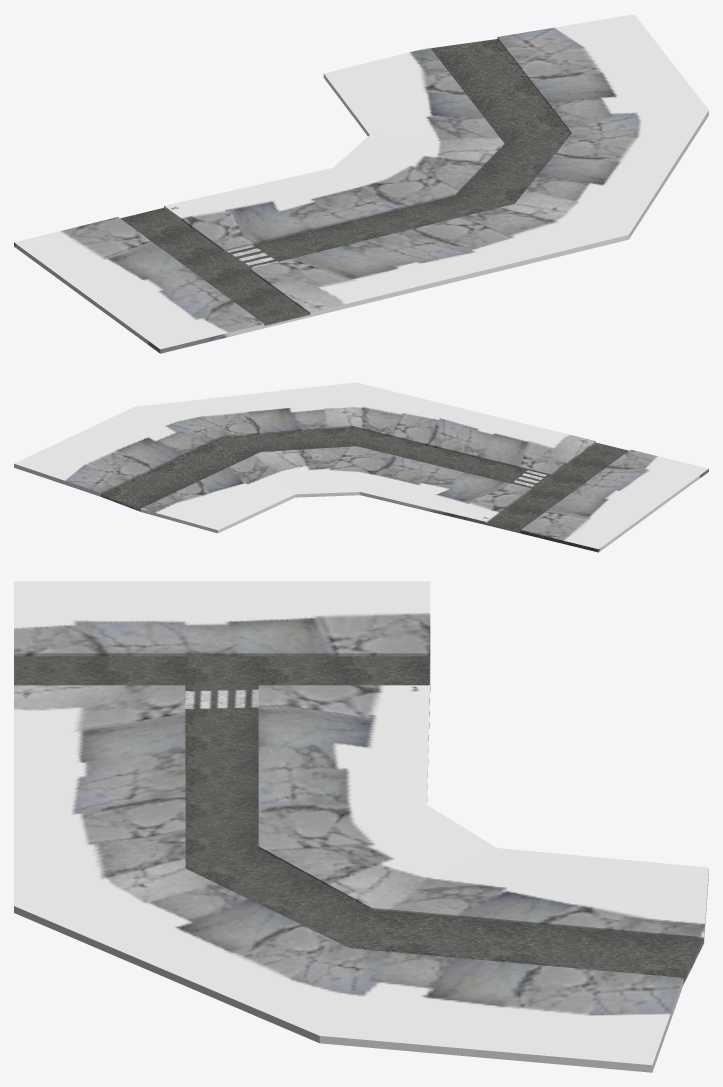
Rendered from roadfbx.fbx.
The picture shows the model from 3 angles, top to bottom: view 1: azimuth 30°, elevation 25°; view 2: azimuth 150°, elevation 25°; view 3: azimuth 270°, elevation 25°; orthographic projection. The views are drawn at different scales.
Visible parts, largest first — view 1: Cube_Cube.001; view 2: Cube_Cube.001; view 3: Cube_Cube.001.
Boxes of the visible parts, <box> form: Cube_Cube.001: <box>14,14,708,353</box>; Cube_Cube.001: <box>14,382,708,552</box>; Cube_Cube.001: <box>14,581,708,1072</box>.
Size of the model in its own units: 4683 by 46.14 by 2838.
